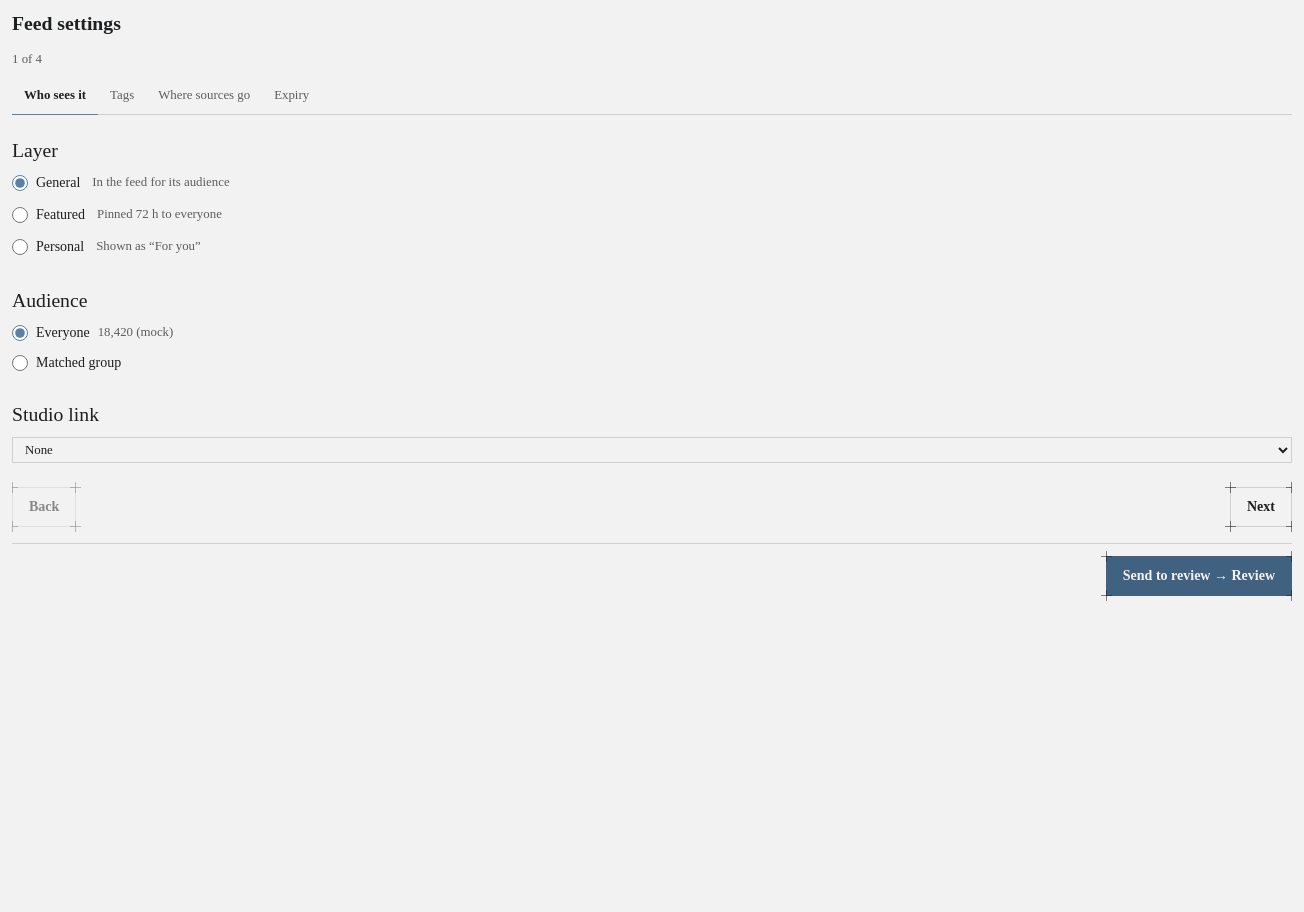
Test case: SettingsForm › disables Matched for a featured post, with the reason
Click the radio button labelled "Featured": (20, 215) [12,207,28,223]
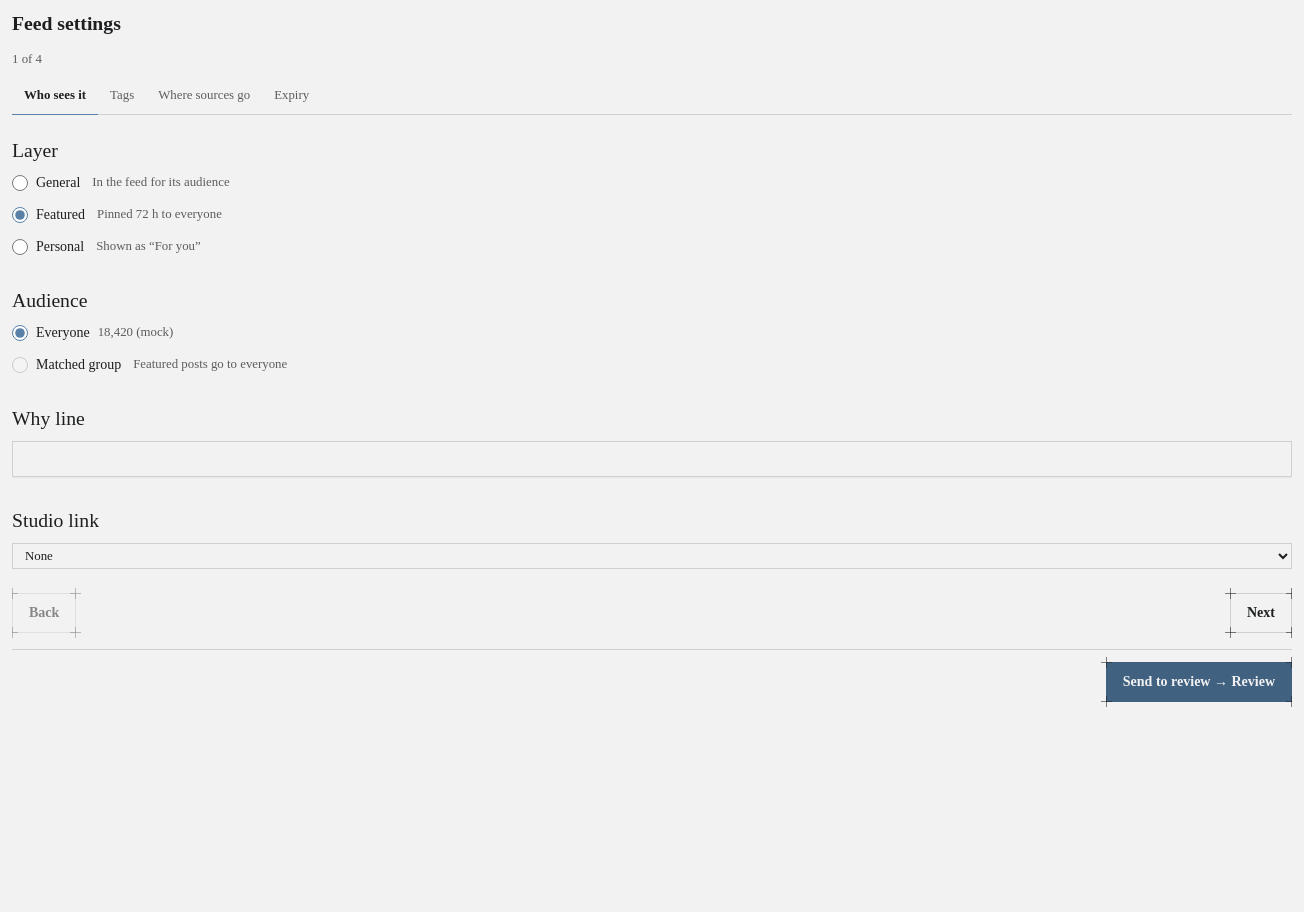
Check: the radio button labelled "Everyone 18,420 (mock)" is checked, box [12,325,28,341]
Check: the radio button labelled "Matched group" is disabled, box [12,357,28,373]
Check: the text "Featured posts go to everyone" is shown, box [133,355,287,375]
